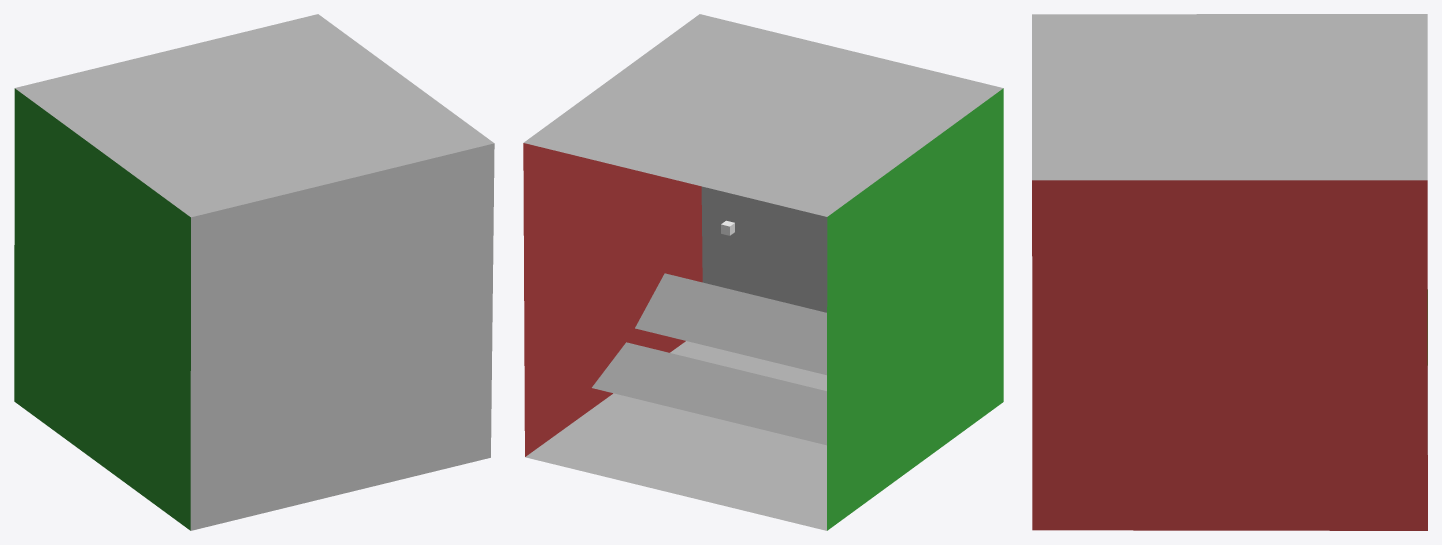
Rendered from mit.obj.
3 views of the same model, side by side, from view 1: azimuth 30°, elevation 25°; view 2: azimuth 150°, elevation 25°; view 3: azimuth 270°, elevation 25° (orthographic). The views are drawn at different scales.
Size of the model in its own units: 5.56 by 5.49 by 5.6.
